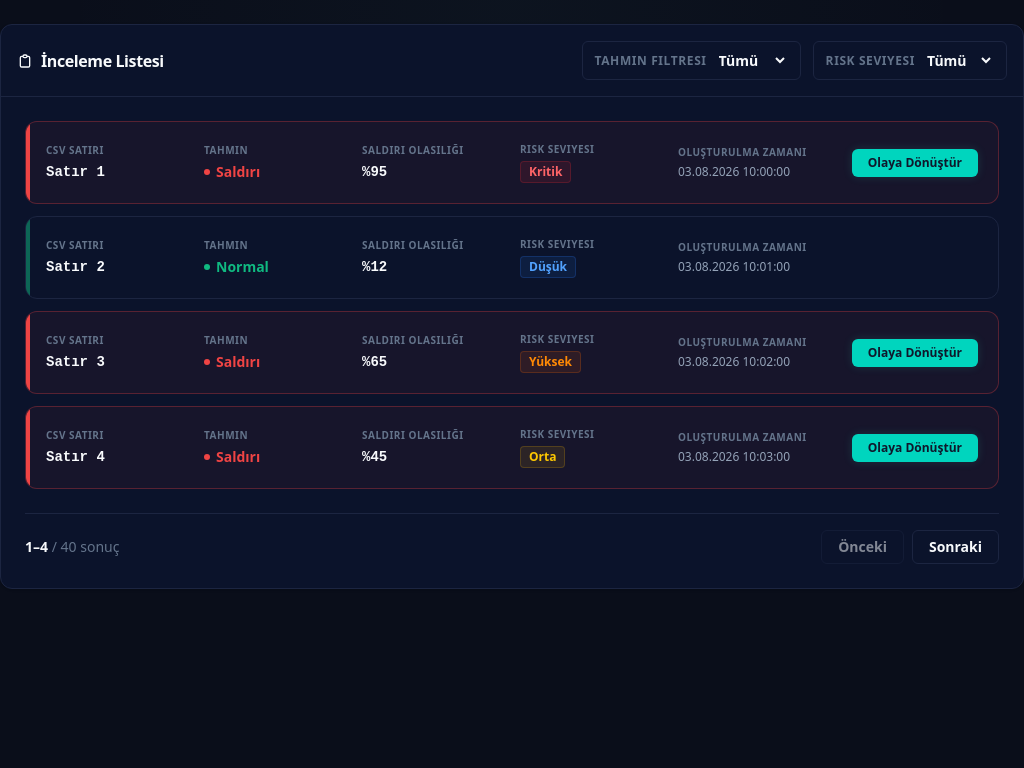
Test: DetectionResultsList › Integration with IncidentCreateForm › 48. Başarılı oluşturma sonrası “Olaya Dönüştürüldü” görünür, 49. buton kaybolur
Click the button "Olaya Dönüştür" in the row of "03.08.2026 10:00:00". click: (915, 162)
box: [852,148,978,176]
(page scrolled)
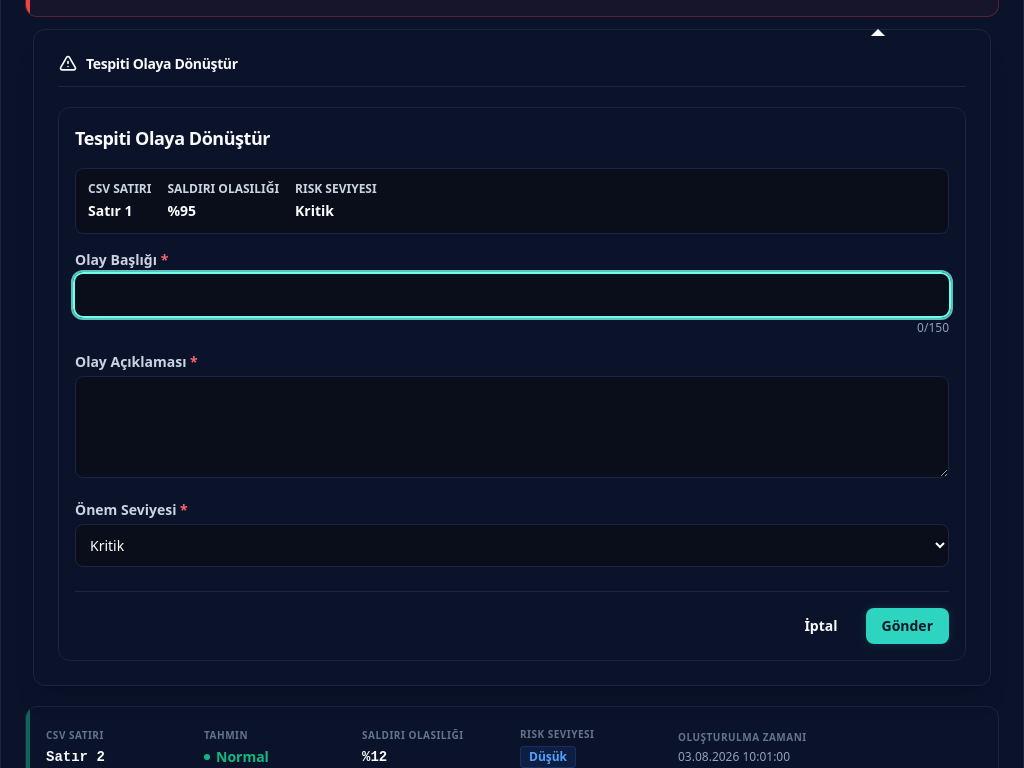
Expected: the element "Tespiti Olaya Dönüştür" is shown
